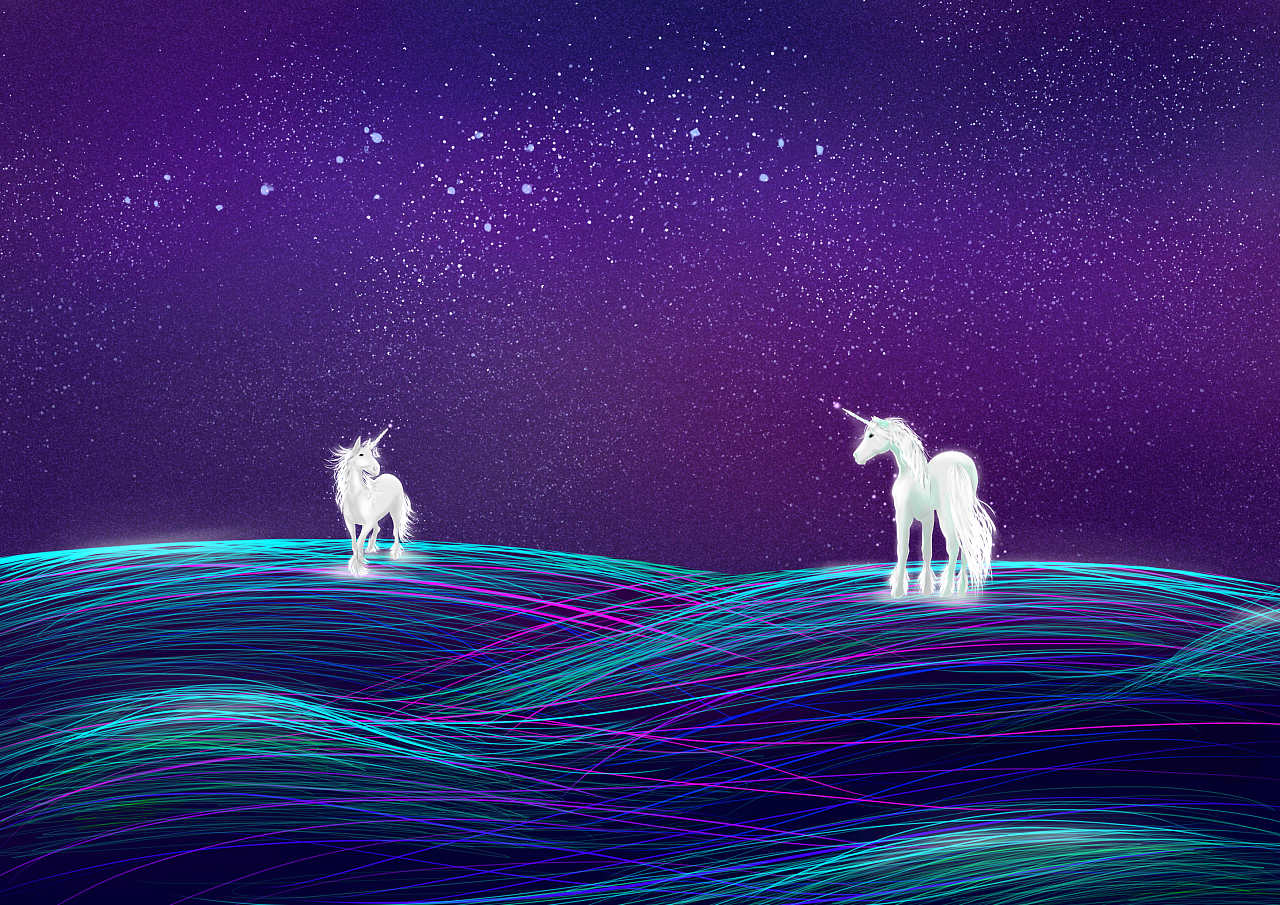background: (828, 399, 999, 597)
